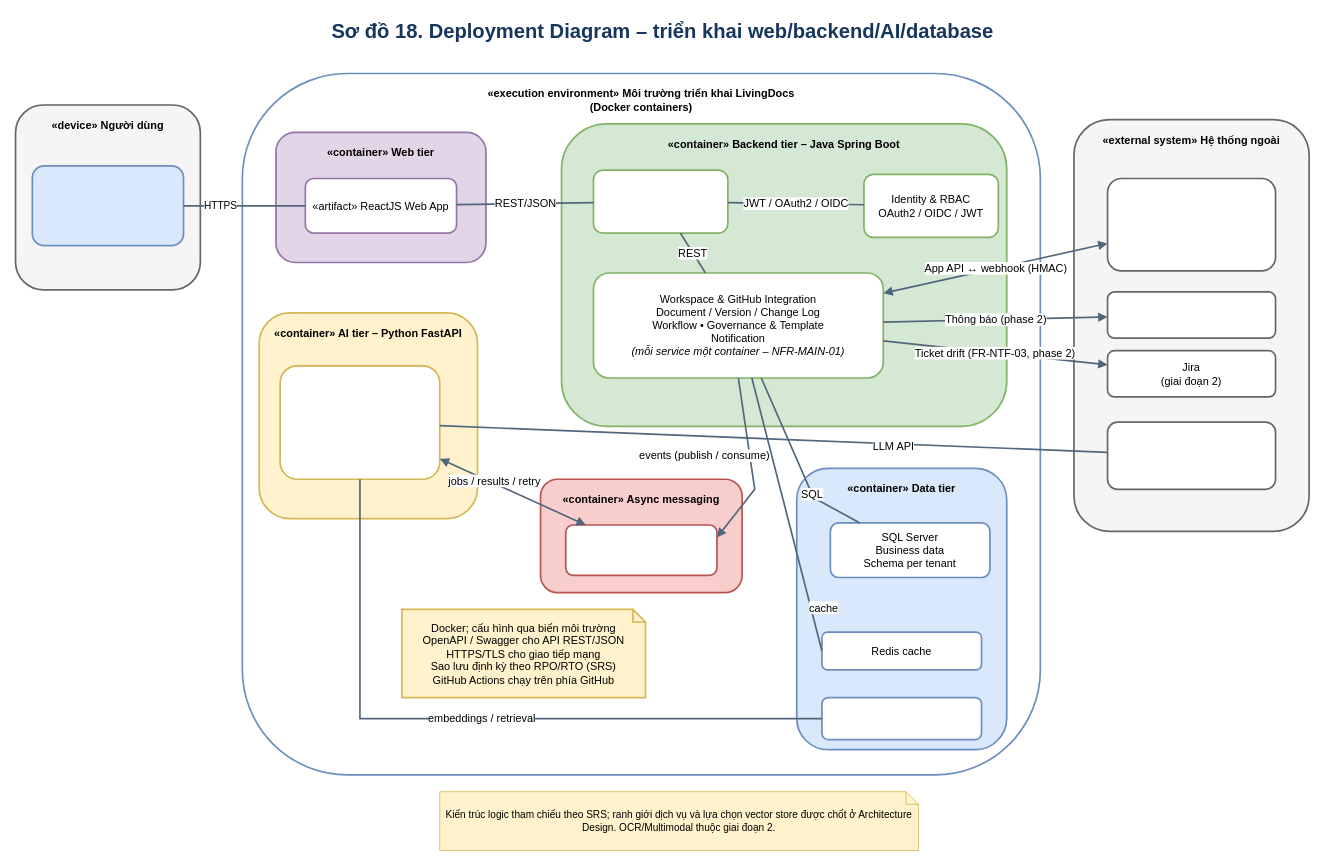
Image size: 1324x865. Some labels were removed from this diagram. Each missing label, with the centre of its shape:
"AI Engine AST Analyzer RAG Retriever LLM Orchestrator Confidence & evidence" belongs at (x=359, y=422).
"Apache Kafka Events / jobs / retry / DLQ" belongs at (x=640, y=550).
"API Gateway Token validation, routing, rate limiting" belongs at (x=660, y=201).
"GitHub GitHub App / OAuth Webhooks / Actions Source PR / Docs PR" belongs at (x=1191, y=224).
"LLM provider hoặc LLM nội bộ (cấu hình được)" belongs at (x=1191, y=455).
"Slack (giai đoạn 2)" belongs at (x=1191, y=315).
"Vector store (TBD) SQL Server vector support or Qdrant / Chroma" belongs at (x=901, y=718).
"«execution environment» Trình duyệt web Desktop / Tablet" belongs at (x=107, y=205).
